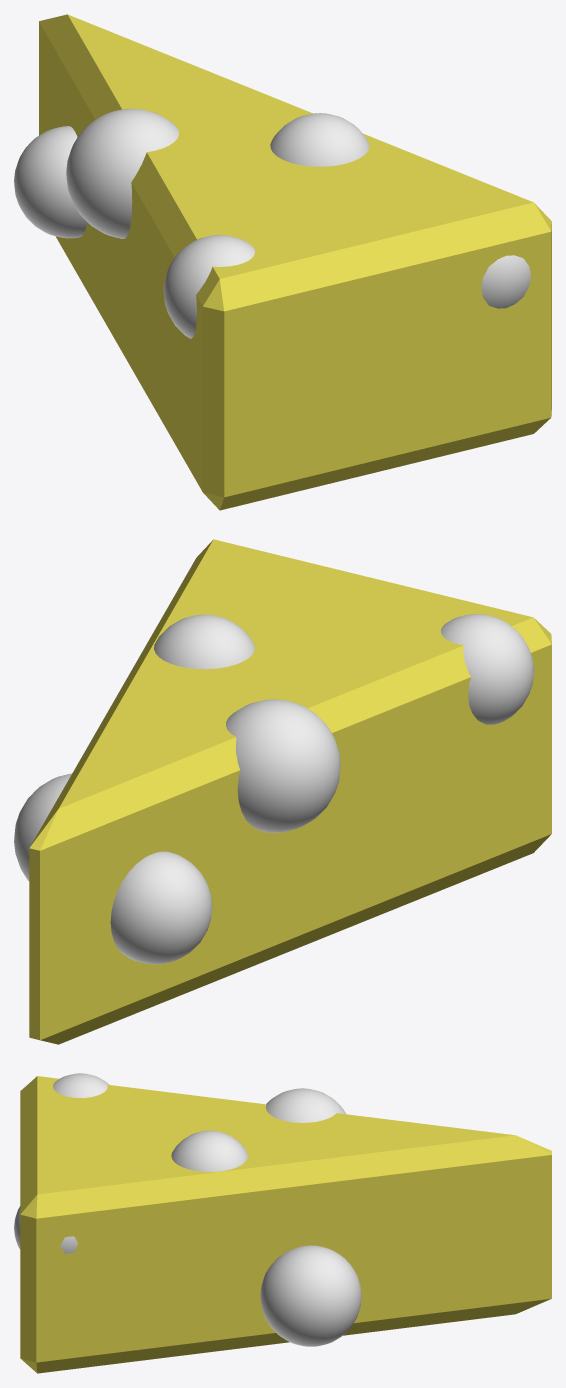
Rendered from cheese.fbx.
3 renders of one model, top to bottom at view 1: azimuth 30°, elevation 25°; view 2: azimuth 150°, elevation 25°; view 3: azimuth 270°, elevation 25°, orthographic. The views are drawn at different scales.
Parts seen in each view (by area): view 1: Cube, Sphere; view 2: Cube, Sphere; view 3: Cube, Sphere.
Boxes of the visible parts, x1=… form: Cube: x1=39, y1=14, x2=551, y2=510; Sphere: x1=14, y1=108, x2=530, y2=338; Cube: x1=29, y1=539, x2=551, y2=1044; Sphere: x1=14, y1=614, x2=533, y2=964; Cube: x1=20, y1=1076, x2=551, y2=1373; Sphere: x1=14, y1=1073, x2=361, y2=1346.
Bounding box in the file's own units: 1.51 × 1.06 × 2.59.
